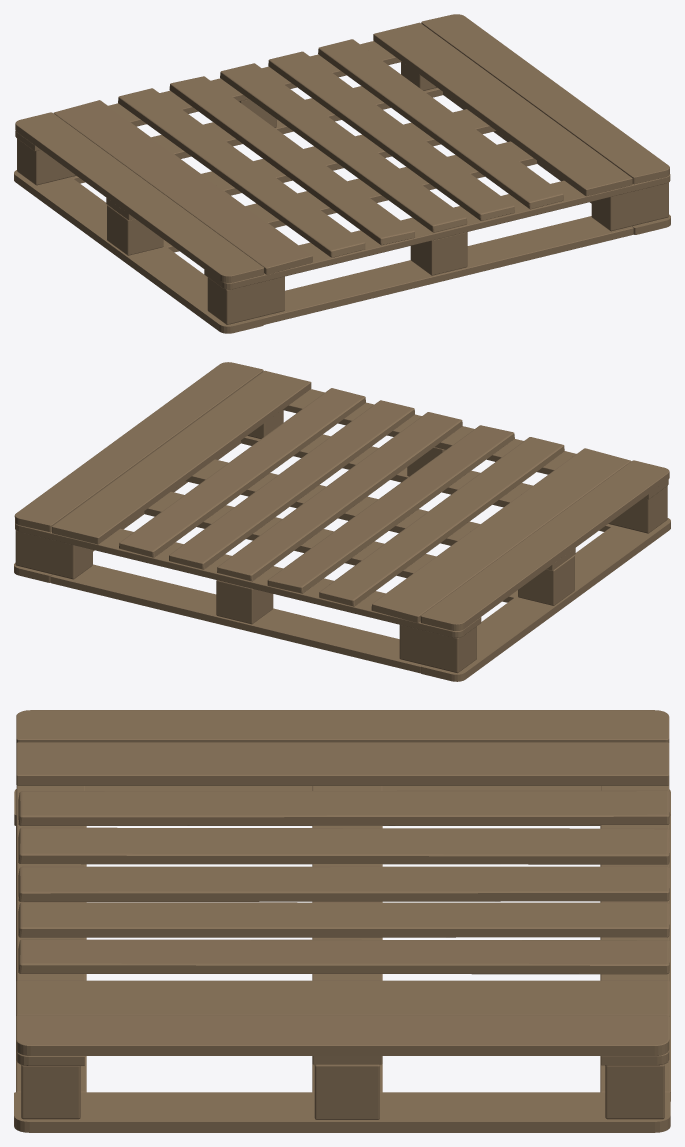
File: Pallet_02.fbx
The picture shows the model from 3 angles, top to bottom: view 1: azimuth 30°, elevation 25°; view 2: azimuth 150°, elevation 25°; view 3: azimuth 270°, elevation 25°; orthographic projection. The views are drawn at different scales.
Parts seen in each view (by area): view 1: pallet5, pallet6, pallet7, pallet11, pallet2, pallet4, pallet1, pallet, pallet8, pallet3, pallet14, pallet23 (+10 smaller); view 2: pallet5, pallet6, pallet7, pallet10, pallet2, pallet4, pallet, pallet1, pallet8, pallet3, pallet14, pallet24 (+10 smaller); view 3: pallet6, pallet8, pallet3, pallet, pallet1, pallet4, pallet5, pallet2, pallet13, pallet7, pallet19, pallet15 (+7 smaller).
Part boxes in pixels (box(x1,y1,x2,y2)): pallet5: box(373, 22, 632, 196); pallet6: box(53, 100, 312, 274); pallet7: box(15, 112, 263, 282); pallet11: box(262, 216, 633, 324); pallet2: box(318, 39, 563, 209); pallet4: box(118, 88, 365, 257); pallet1: box(268, 51, 514, 220); pallet: box(220, 63, 467, 232); pallet8: box(421, 14, 669, 184); pallet3: box(169, 76, 414, 245); pallet14: box(14, 170, 263, 333); pallet23: box(204, 174, 670, 289); pallet5: box(52, 370, 311, 544); pallet6: box(371, 448, 631, 622); pallet7: box(420, 460, 669, 630); pallet10: box(50, 564, 422, 673); pallet2: box(119, 388, 365, 557); pallet4: box(319, 437, 564, 606); pallet: box(217, 412, 462, 581); pallet1: box(169, 400, 414, 569); pallet8: box(14, 362, 263, 532); pallet3: box(267, 425, 514, 593); pallet14: box(421, 518, 670, 681); pallet24: box(15, 523, 481, 637); pallet6: box(16, 742, 669, 785); pallet8: box(16, 1015, 669, 1055); pallet3: box(18, 827, 669, 864); pallet: box(18, 866, 669, 901); pallet1: box(18, 902, 669, 937); pallet4: box(18, 790, 669, 825); pallet5: box(16, 980, 669, 1016); pallet2: box(18, 939, 669, 974); pallet13: box(14, 1092, 670, 1132); pallet7: box(16, 710, 669, 742); pallet19: box(314, 1064, 379, 1119); pallet15: box(605, 1064, 664, 1119).
Bounding box in the file's own units: 1.86 × 0.2265 × 1.53.
